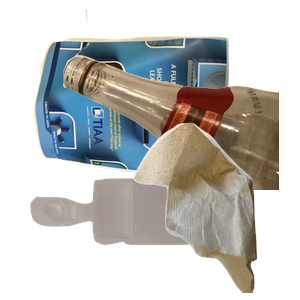glass: (60, 10, 300, 190)
paper: (31, 34, 252, 205)
plastic: (28, 176, 253, 300)
trash: (131, 120, 300, 300)
